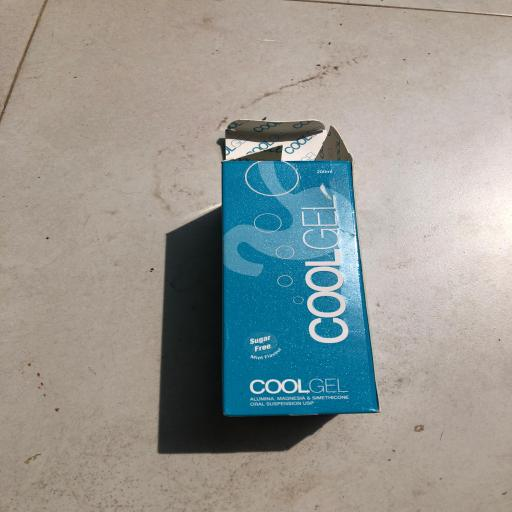waste: (200, 102, 398, 426)
